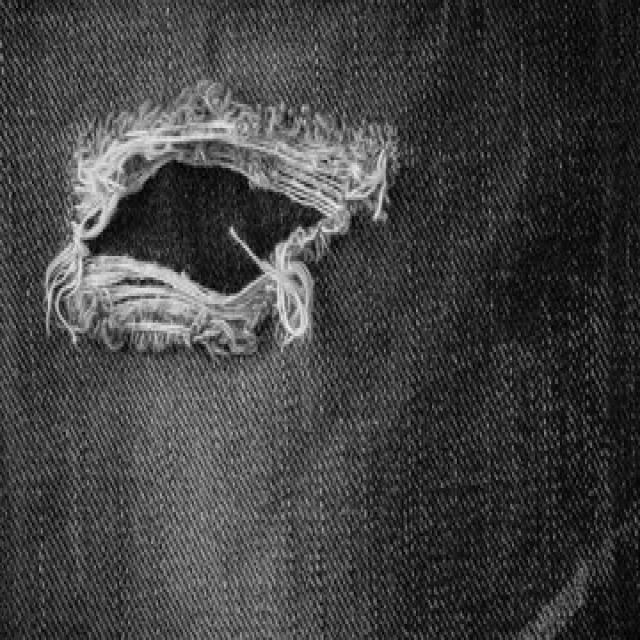Hole: (46, 81, 398, 356)
